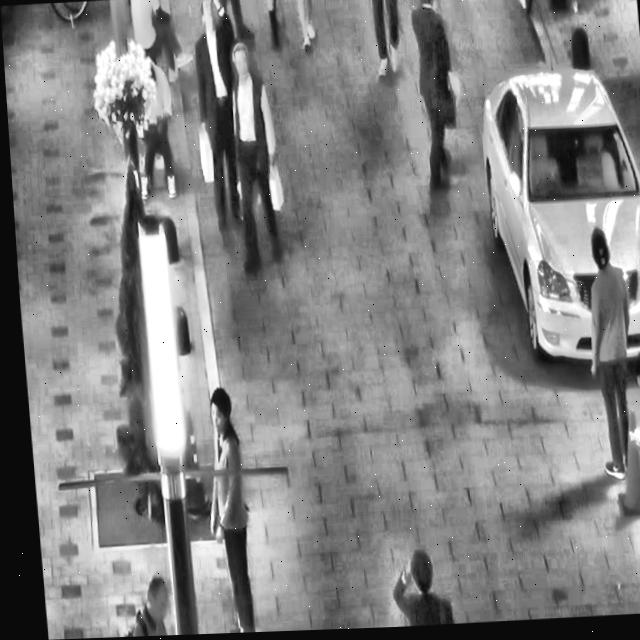light_vehicle: (467, 49, 640, 378)
